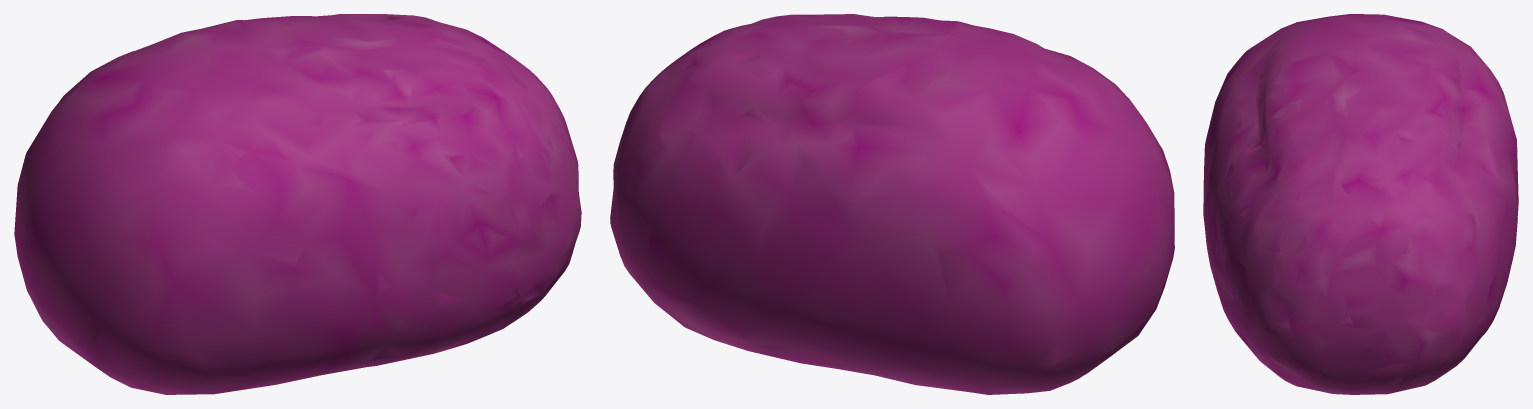
Rendered from sweeper_segment.glb.
3 renders of one model, left to right at view 1: azimuth 30°, elevation 25°; view 2: azimuth 150°, elevation 25°; view 3: azimuth 270°, elevation 25°, orthographic. The views are drawn at different scales.
Parts seen in each view (by area): view 1: geometry_0; view 2: geometry_0; view 3: geometry_0.
Boxes of the visible parts, x1,y1,x2,y2 form: geometry_0: (14,14,581,394); geometry_0: (610,14,1174,394); geometry_0: (1203,14,1518,394).
Bounding box in the file's own units: 1.9 × 1.13 × 1.23.
